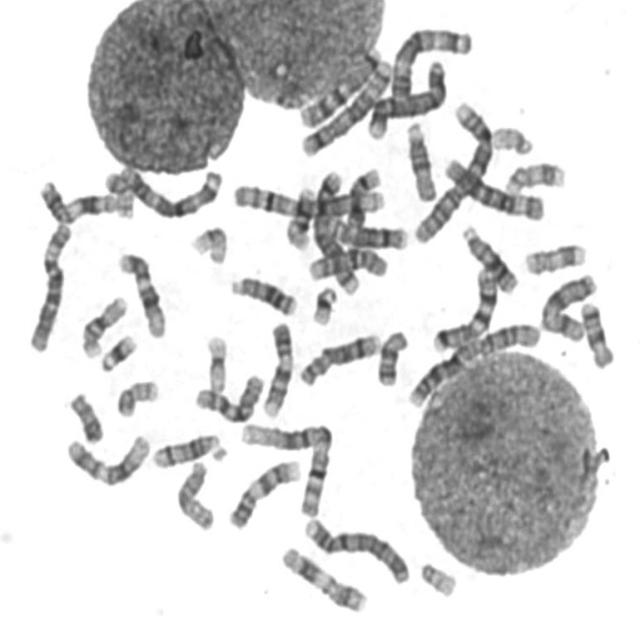A1: (234, 414, 335, 519), (228, 175, 390, 222)
A2: (403, 315, 543, 411), (408, 95, 496, 247)
A3: (105, 158, 225, 220), (386, 21, 475, 101)
B4: (299, 511, 412, 587), (363, 53, 448, 141)
B5: (296, 50, 394, 159), (309, 164, 362, 296)
C10: (189, 366, 267, 424), (305, 242, 390, 283)
C11: (276, 540, 370, 614), (33, 173, 125, 226)
C12: (61, 428, 151, 488), (113, 245, 167, 340)
C6: (439, 150, 548, 222), (23, 216, 74, 354)
C7: (295, 40, 386, 130), (427, 261, 500, 354)
C8: (294, 326, 384, 388), (324, 212, 410, 251)
C9: (224, 453, 304, 532), (257, 316, 296, 419)
D13: (456, 218, 520, 296), (224, 269, 298, 318)
D14: (148, 427, 228, 470), (340, 160, 383, 232)
D15: (172, 454, 218, 532), (401, 115, 440, 203)
E16: (76, 290, 130, 358), (281, 180, 317, 252)
E17: (520, 235, 590, 277), (500, 156, 568, 196)
E18: (576, 296, 617, 370), (372, 324, 410, 388)
F19: (186, 218, 230, 266), (200, 327, 230, 395)
F20: (110, 373, 162, 419), (100, 166, 136, 220)
G21: (95, 327, 139, 374), (306, 280, 339, 328)
G22: (414, 555, 460, 599), (488, 119, 535, 157)
X: (535, 266, 599, 344)
Y: (63, 385, 105, 445)
